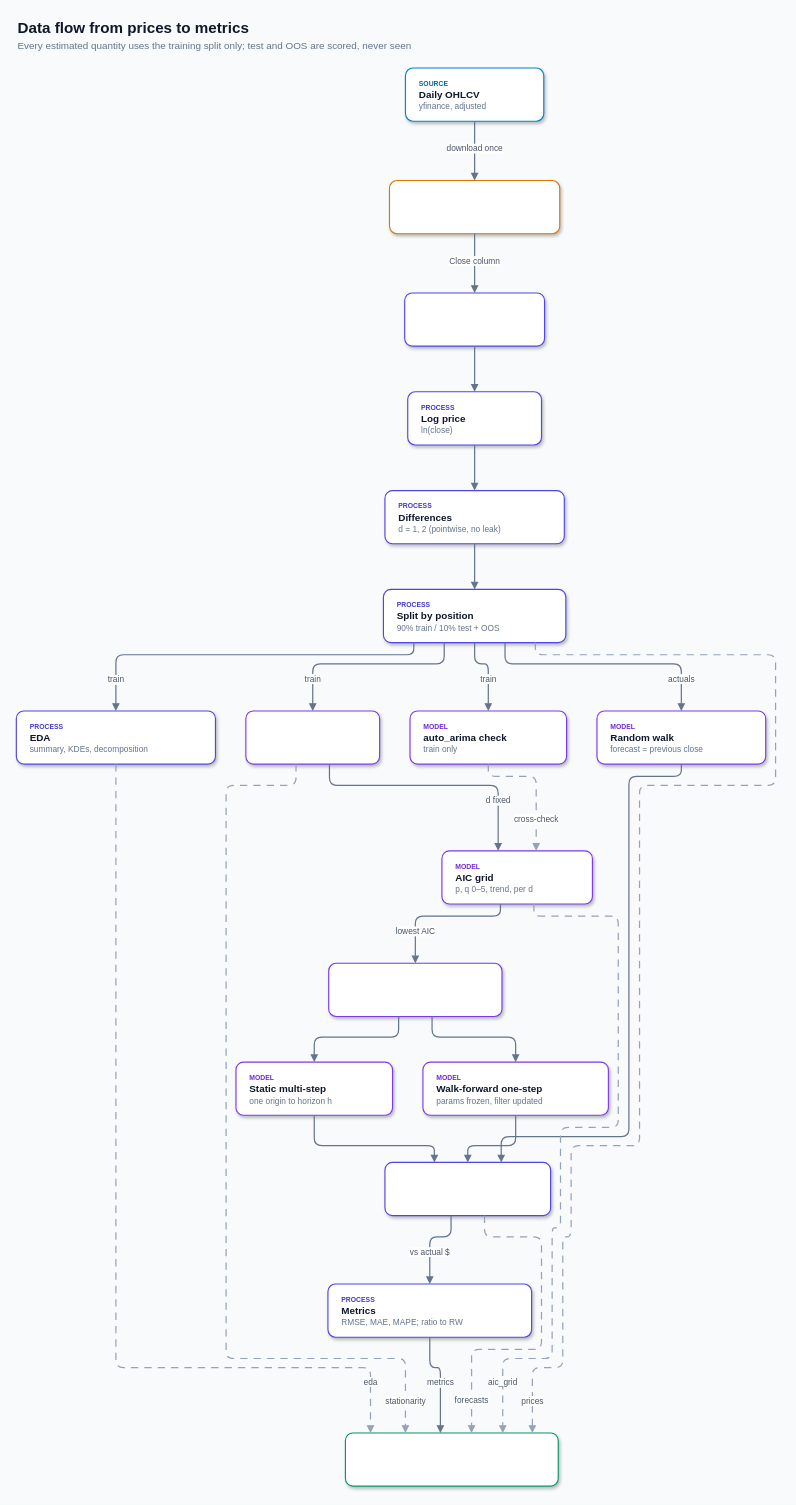
Image size: 796x1505. Some labels were removed from this diagram. Here are the shapes that lost their labels. From the top down, the centre of each, then its label:
At (475,208): "STORE Raw snapshot CSV + SHA-256 manifest".
At (475,320): "PROCESS Adjusted close $, .ffill() if gaps".
At (313,738): "MODEL ADF + KPSS train only → d".
At (416,990): "MODEL Fit ARIMA statsmodels, order + trend".
At (468,1189): "PROCESS Back-transform exp(mean), exp(bounds)".
At (452,1460): "OUTPUT JSON artifacts prices … metrics".
